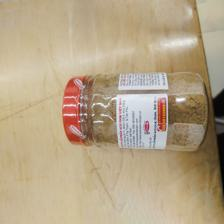Hao_hao: (61, 69, 209, 156)
